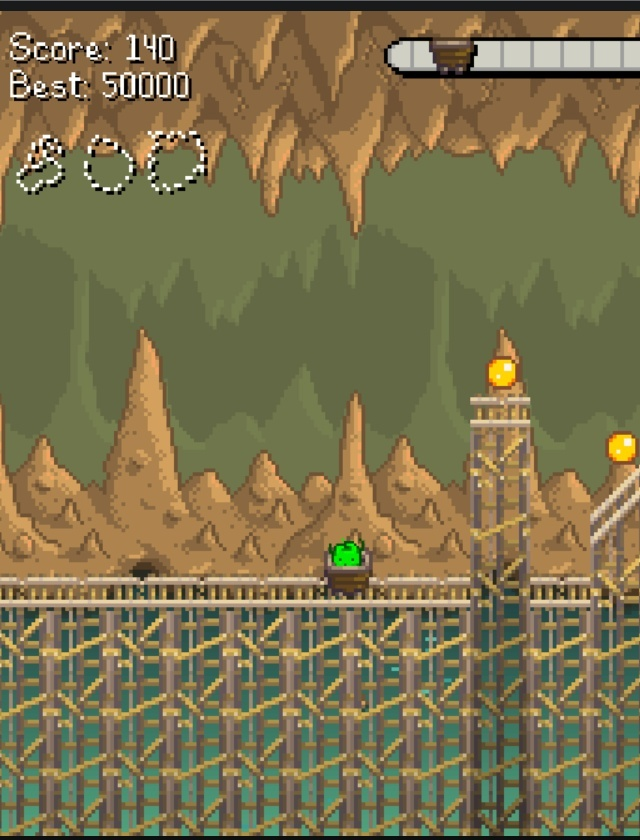coins: (607, 431, 637, 463), (487, 357, 515, 387)
minecart: (324, 540, 370, 594)
score: (122, 28, 180, 66)
tracks: (0, 565, 473, 616)
